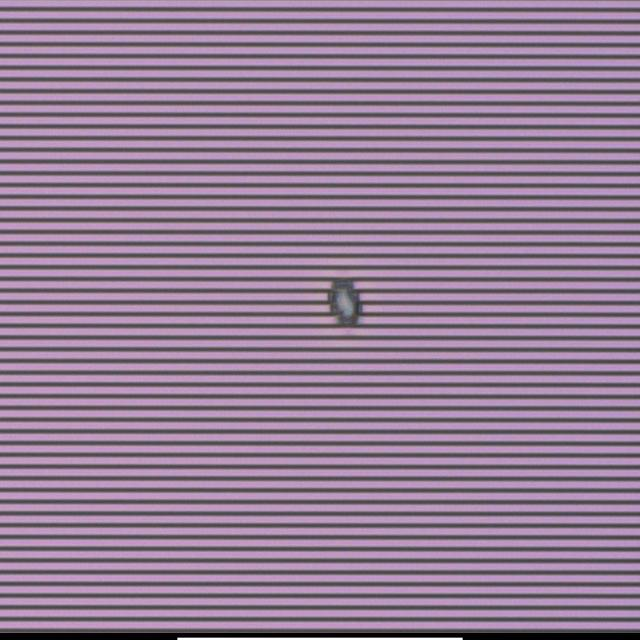03_intrusion: (326, 273, 364, 328)
